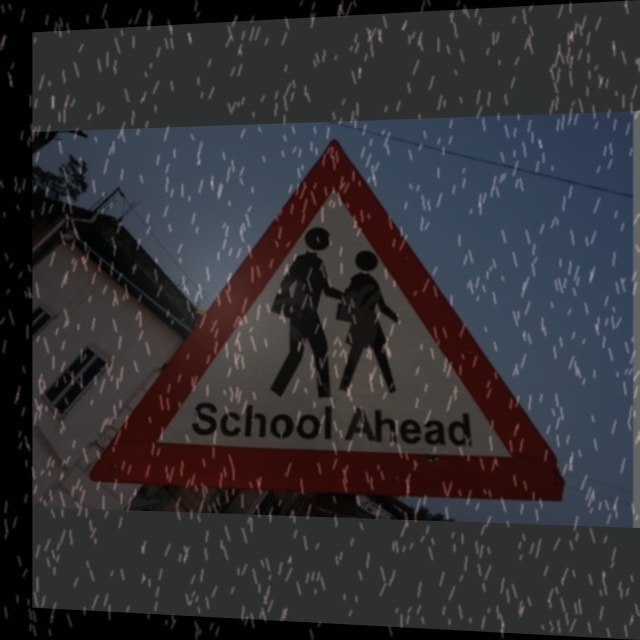School_Ahead: (138, 136, 543, 493)
